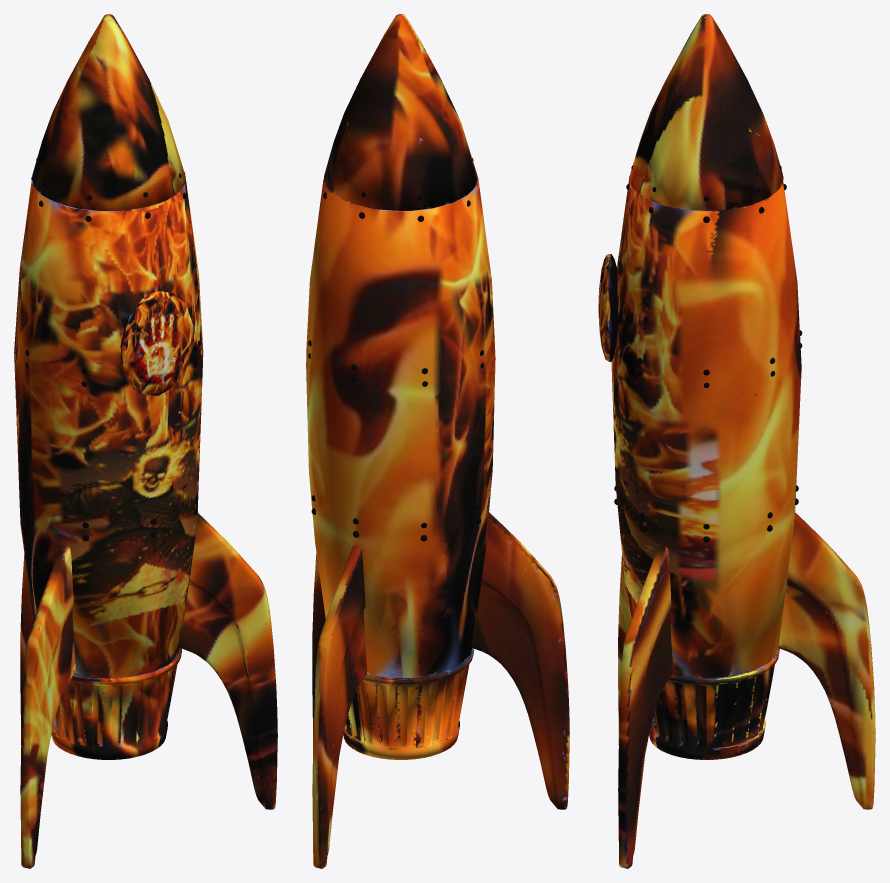
File: ghost.obj
The picture shows the model from 3 angles, left to right: view 1: azimuth 30°, elevation 25°; view 2: azimuth 150°, elevation 25°; view 3: azimuth 270°, elevation 25°; orthographic projection.
Parts seen in each view (by area): view 1: Cylinder.1, Cube_0.1, Cylinder, Cylinder.2, Sphere; view 2: Cylinder.1, Cube_0.1, Cylinder, Cylinder.2, Sphere_0.1; view 3: Cylinder.1, Cube_0.1, Cylinder, Cylinder.2, Sphere, Sphere_0.1.
Part boxes in pixels (box(x1,y1,x2,y2)): Cylinder.1: box(14, 172, 203, 678); Cube_0.1: box(20, 513, 277, 868); Cylinder: box(32, 14, 185, 210); Cylinder.2: box(51, 648, 181, 759); Sphere: box(120, 291, 193, 395); Cylinder.1: box(306, 177, 495, 677); Cube_0.1: box(312, 512, 569, 868); Cylinder: box(324, 14, 477, 210); Cylinder.2: box(343, 648, 474, 759); Sphere_0.1: box(308, 192, 483, 541); Cylinder.1: box(611, 175, 801, 678); Cube_0.1: box(618, 512, 875, 868); Cylinder: box(629, 14, 783, 210); Cylinder.2: box(649, 648, 779, 759); Sphere: box(598, 254, 617, 362); Sphere_0.1: box(614, 183, 802, 542).
Bounding box in the file's own units: 86.73 × 256 × 81.16.
2 materials, 2 textured.
